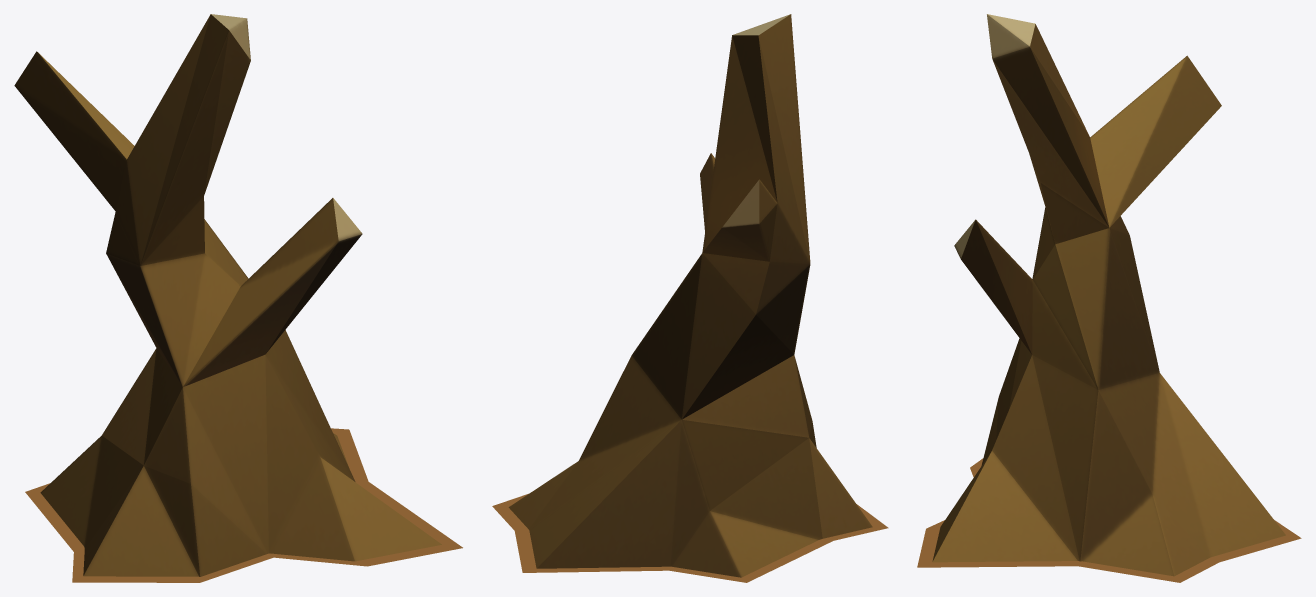
File: withered tree_S.FBX
3 renders of one model, left to right at view 1: azimuth 30°, elevation 25°; view 2: azimuth 150°, elevation 25°; view 3: azimuth 270°, elevation 25°, orthographic. The views are drawn at different scales.
Visible parts, largest first — view 1: withered tree_S, earth_shadow_withered tree; view 2: withered tree_S, earth_shadow_withered tree; view 3: withered tree_S, earth_shadow_withered tree.
Part boxes in pixels (box(x1,y1,x2,y2)): withered tree_S: box(14, 14, 441, 576); earth_shadow_withered tree: box(25, 428, 462, 582); withered tree_S: box(508, 14, 872, 577); earth_shadow_withered tree: box(492, 493, 888, 582); withered tree_S: box(932, 14, 1285, 576); earth_shadow_withered tree: box(917, 458, 1301, 582).
Size of the model in its own units: 95.13 by 134 by 99.12.
